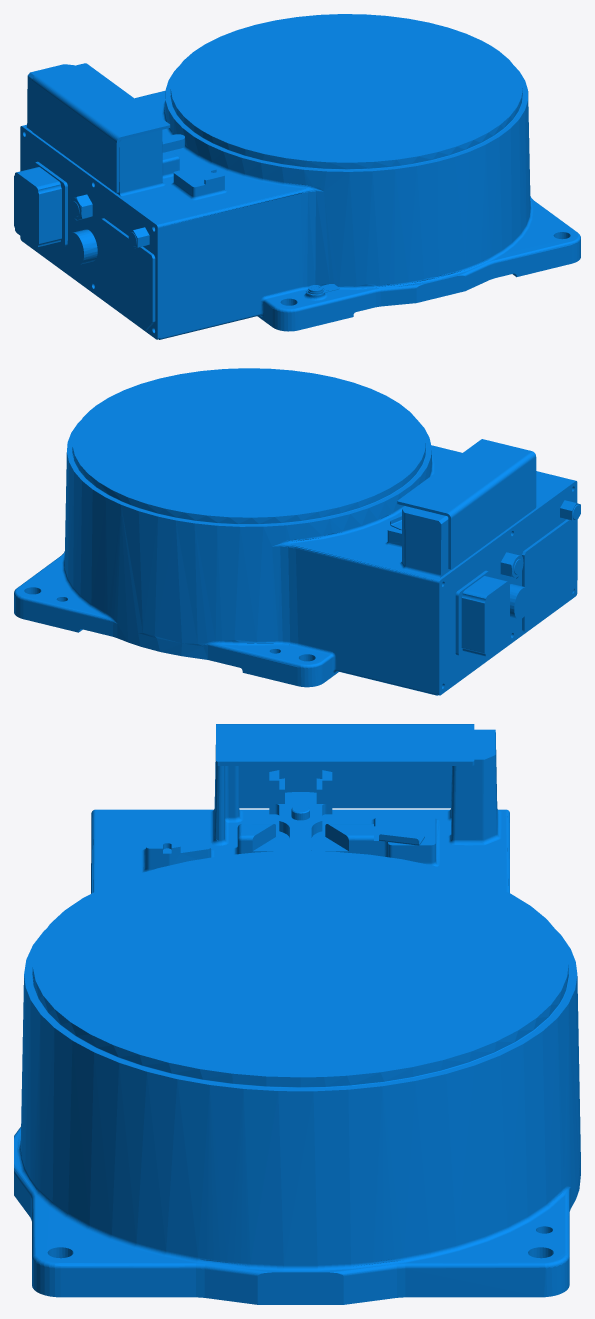
Rendered from base_axis.dae.
3 views of the same model, one above another, from view 1: azimuth 30°, elevation 25°; view 2: azimuth 150°, elevation 25°; view 3: azimuth 270°, elevation 25° (orthographic). The views are drawn at different scales.
Parts seen in each view (by area): view 1: Base; view 2: Base; view 3: Base.
Part boxes in pixels (box(x1,y1,x2,y2)): Base: box(14, 14, 580, 339); Base: box(14, 368, 580, 695); Base: box(14, 724, 580, 1304).
Bounding box in the file's own units: 0.5478 × 0.3955 × 0.2082.
